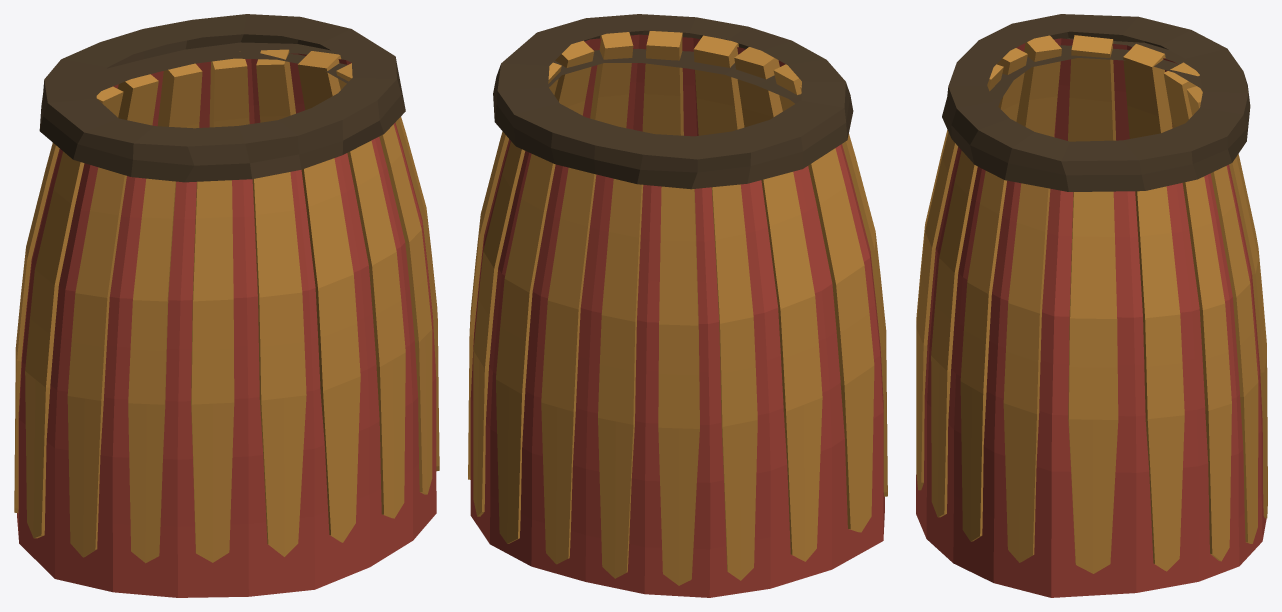
File: Icon 3.fbx
3 renders of one model, left to right at view 1: azimuth 30°, elevation 25°; view 2: azimuth 150°, elevation 25°; view 3: azimuth 270°, elevation 25°, orthographic. The views are drawn at different scales.
Visible parts, largest first — view 1: Cube.018; view 2: Cube.018; view 3: Cube.018.
Boxes of the visible parts, box(x1,y1,x2,y2) form: Cube.018: box(14, 14, 439, 597); Cube.018: box(468, 14, 887, 597); Cube.018: box(916, 14, 1267, 597).
Size of the model in its own units: 47.79 by 53.11 by 39.42.
